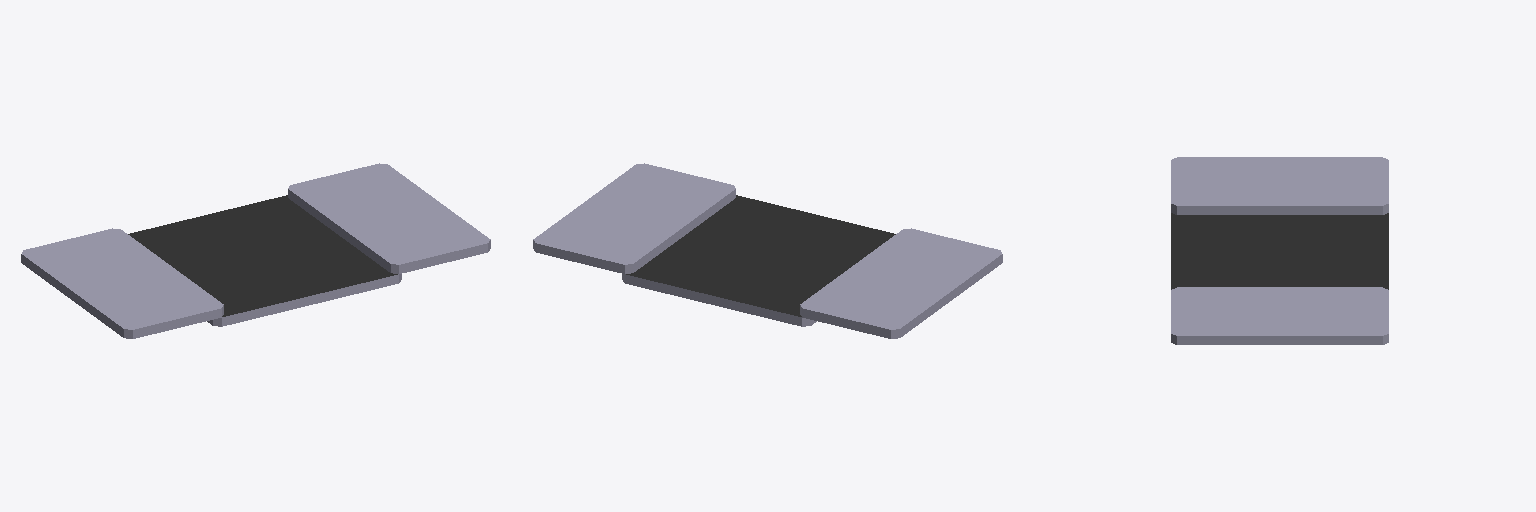
File: street1.obj
3 views of the same model, side by side, from view 1: azimuth 30°, elevation 25°; view 2: azimuth 150°, elevation 25°; view 3: azimuth 270°, elevation 25° (orthographic).
Size of the model in its own units: 4.12 by 0.2 by 2.12.